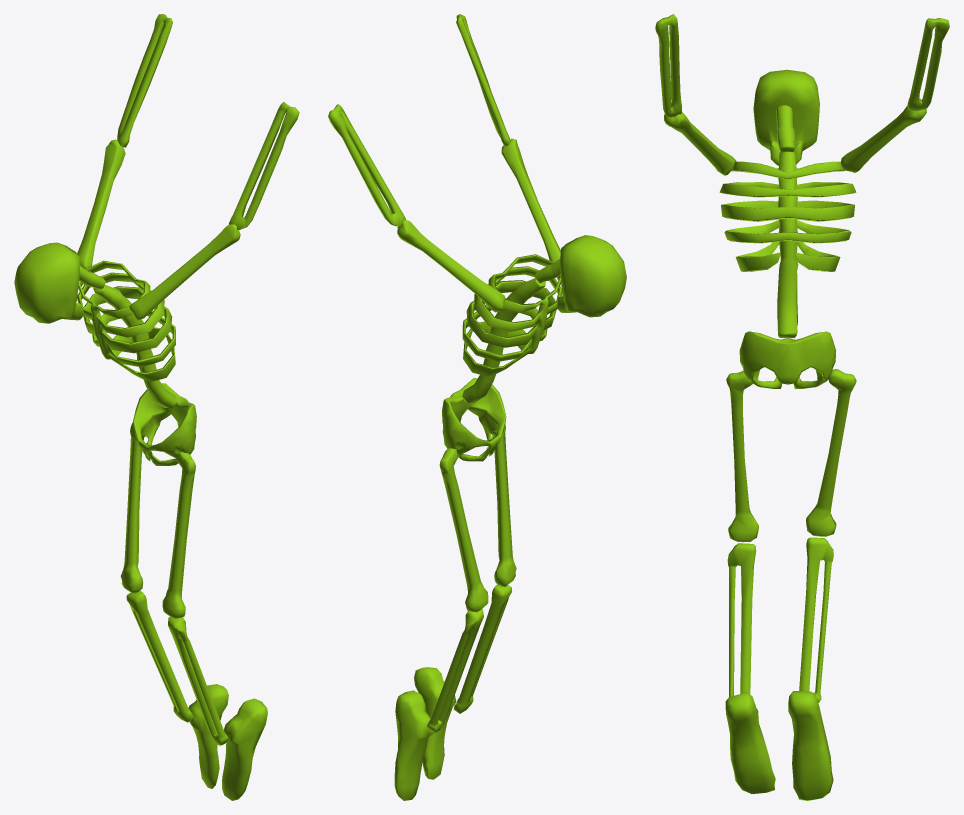
File: Gallows_01C_Lod1.fbx
The picture shows the model from 3 angles, left to right: view 1: azimuth 30°, elevation 25°; view 2: azimuth 150°, elevation 25°; view 3: azimuth 270°, elevation 25°; orthographic projection. The views are drawn at different scales.
Parts seen in each view (by area): view 1: Gallows_01C_Lod1; view 2: Gallows_01C_Lod1; view 3: Gallows_01C_Lod1.
Boxes of the visible parts, box(x1,y1,x2,y2) form: Gallows_01C_Lod1: box(14, 14, 299, 800); Gallows_01C_Lod1: box(328, 14, 626, 800); Gallows_01C_Lod1: box(655, 14, 949, 800).
Size of the model in its own units: 57.72 by 178 by 59.89.
